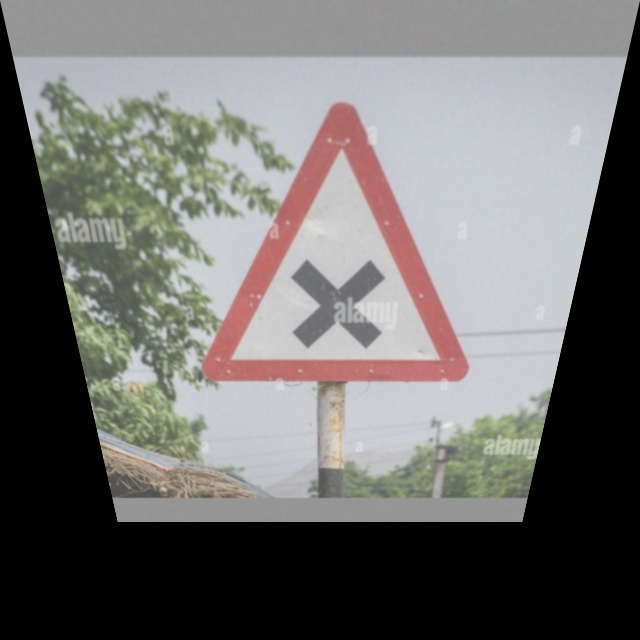Cross_Road: (171, 99, 510, 380)
